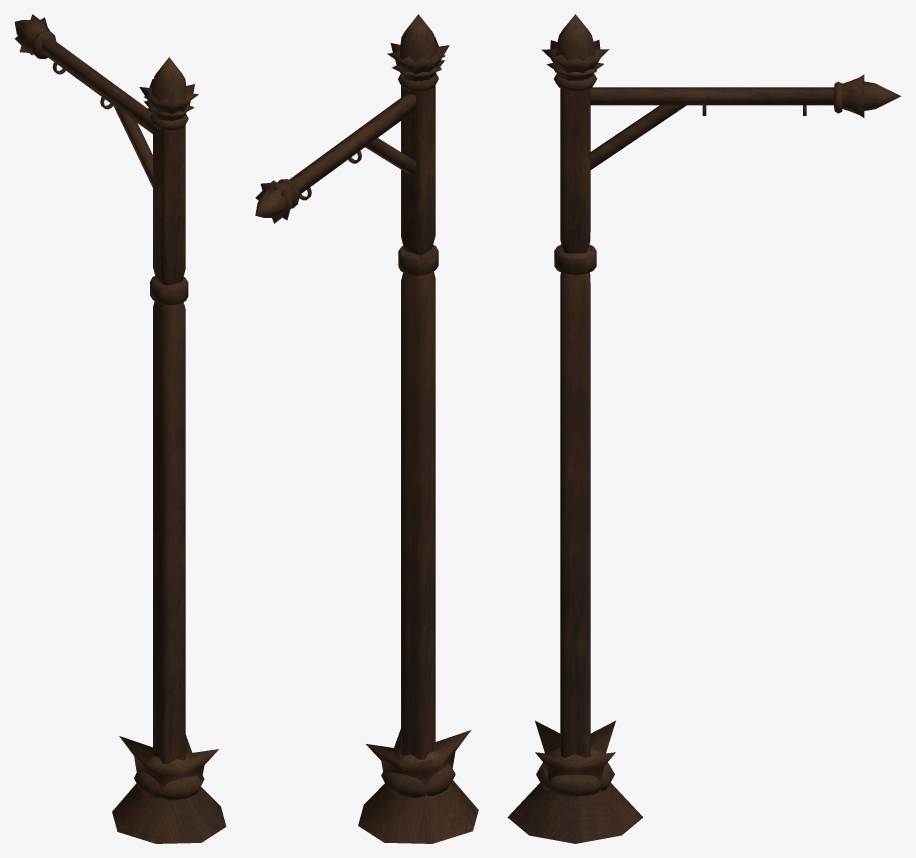
Rendered from SM_WBT_Post.fbx.
3 views of the same model, side by side, from view 1: azimuth 30°, elevation 25°; view 2: azimuth 150°, elevation 25°; view 3: azimuth 270°, elevation 25° (orthographic). The views are drawn at different scales.
Parts seen in each view (by area): view 1: SM_WBT_Post; view 2: SM_WBT_Post; view 3: SM_WBT_Post.
Part boxes in pixels (box(x1,y1,x2,y2)): SM_WBT_Post: box(14, 14, 226, 843); SM_WBT_Post: box(255, 14, 478, 843); SM_WBT_Post: box(507, 14, 900, 843).
Size of the model in its own units: 114 by 356 by 800.
